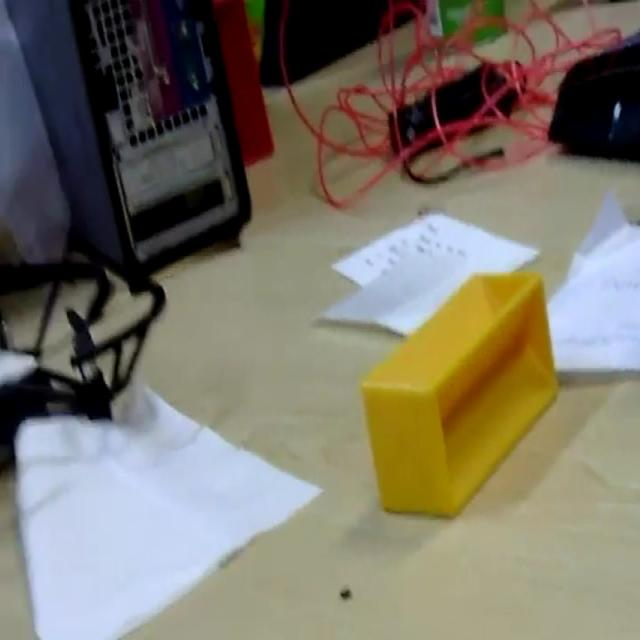yellow_block: (359, 268, 559, 519)
